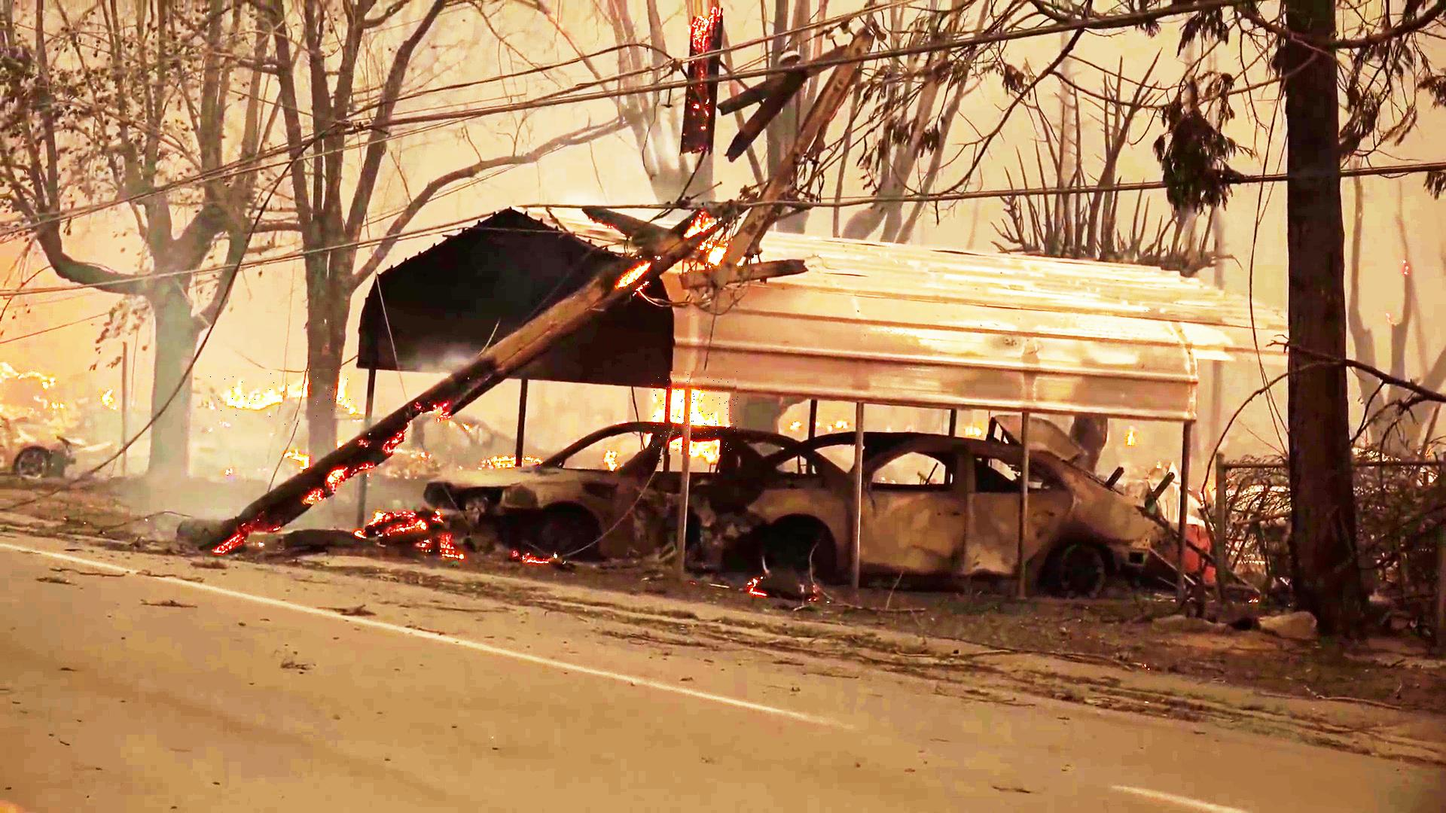fire: (209, 369, 353, 425), (651, 371, 739, 455)
